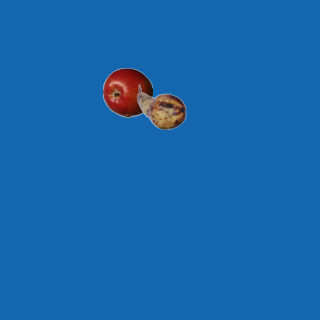Apple Braeburn: (102, 67, 152, 117)
Pear Abate: (136, 82, 186, 132)
